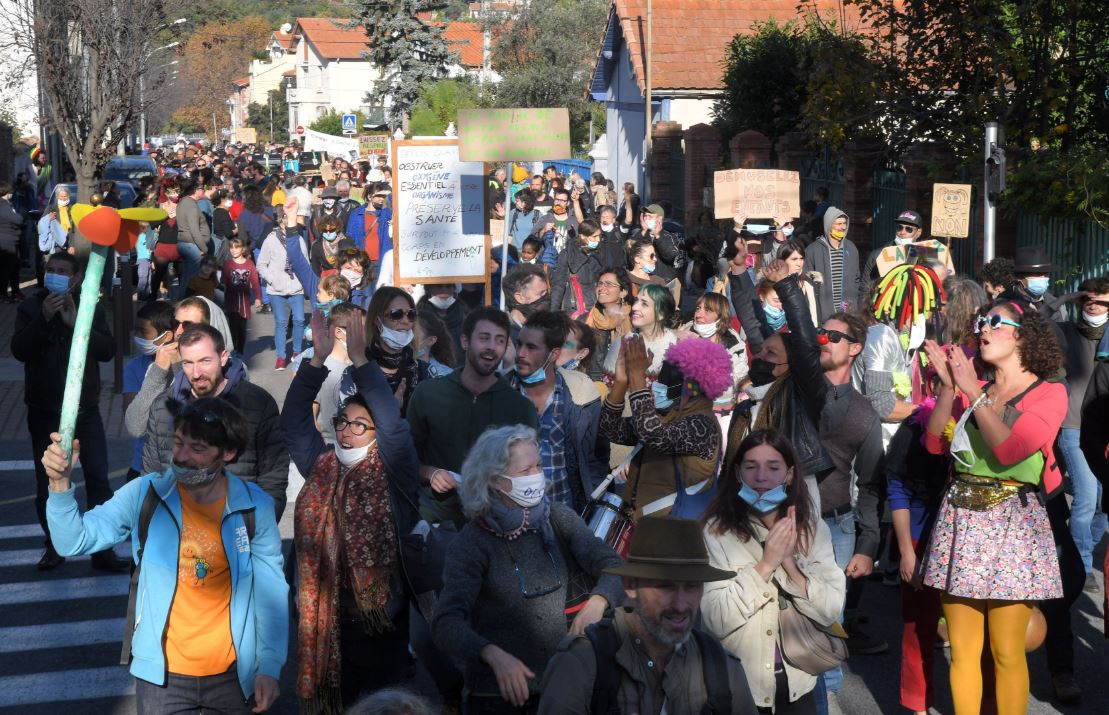with_incorrect_mask: (171, 411, 230, 501), (737, 441, 790, 523), (377, 284, 426, 364), (513, 322, 568, 391), (743, 335, 798, 393), (334, 407, 382, 469), (1078, 283, 1109, 330), (691, 295, 724, 338), (829, 212, 848, 242), (895, 221, 914, 247), (584, 228, 602, 254), (550, 191, 567, 215), (520, 242, 535, 266)
with_mask: (499, 441, 558, 514), (651, 350, 685, 417), (43, 253, 85, 302), (517, 279, 553, 319), (1025, 256, 1052, 300), (788, 250, 805, 279), (640, 209, 660, 232)
without_mask: (632, 555, 704, 650), (813, 315, 865, 380), (975, 311, 1030, 372), (185, 339, 228, 396), (465, 324, 504, 377), (629, 293, 658, 330), (596, 271, 620, 305), (228, 245, 247, 265)
